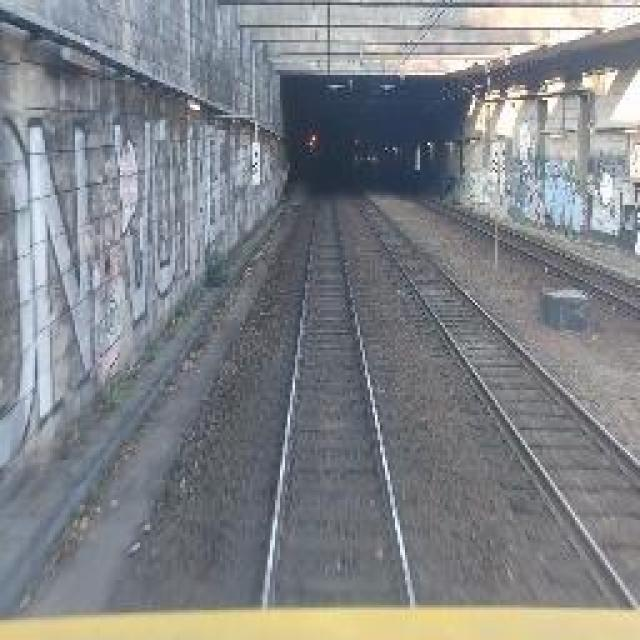rail: (239, 170, 443, 613)
